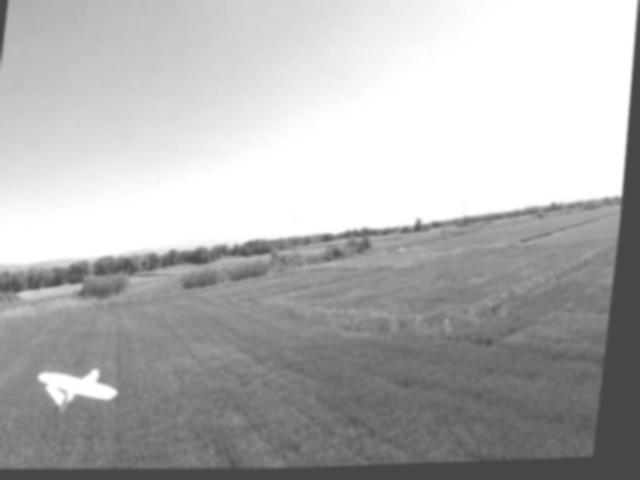hedef: (39, 338, 136, 423)
